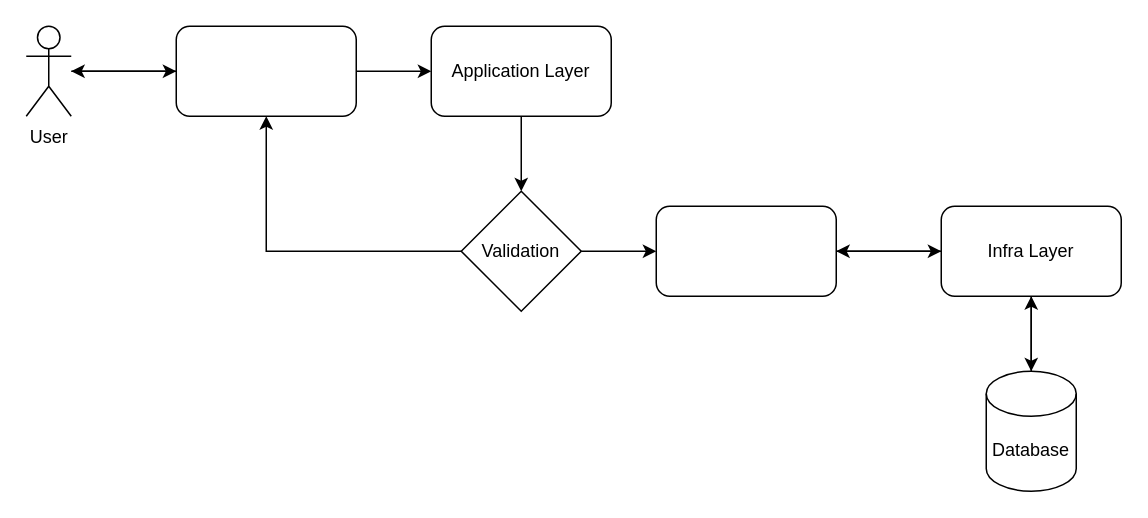
Some shapes in this 1148 by 518 pixel diagram are drawn without their labels. The shapes that lost their labels are listed below. From the top down, each one's centre as x and y in pixels, then its label:
At point (265, 70): "API".
At point (745, 250): "Service Layer".
